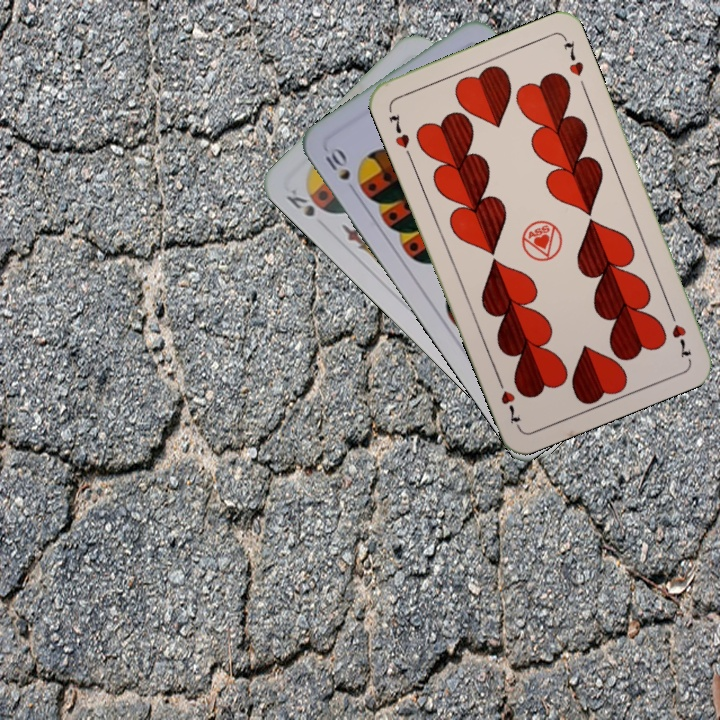H7: (665, 305, 694, 362), (384, 110, 415, 161)
S10: (321, 143, 360, 197)
SK: (282, 185, 318, 219)
